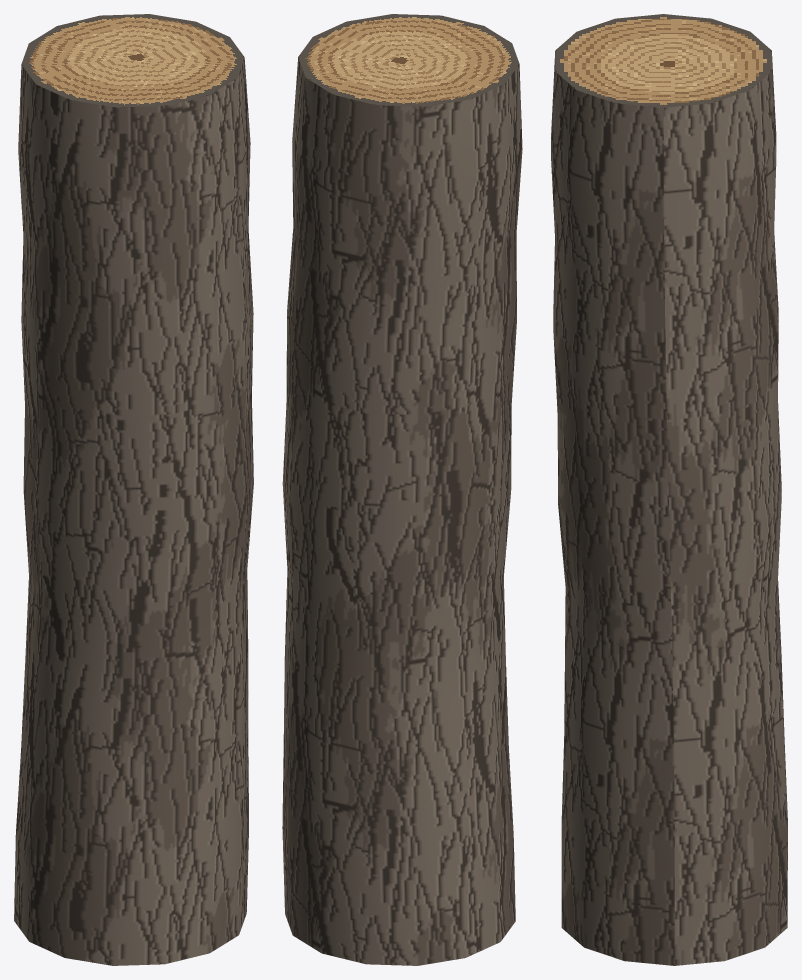
File: environment_elm_loghalf_v72.fbx
3 views of the same model, side by side, from view 1: azimuth 30°, elevation 25°; view 2: azimuth 150°, elevation 25°; view 3: azimuth 270°, elevation 25° (orthographic).
Visible parts, largest first — view 1: environment_elm_loghalf_v72; view 2: environment_elm_loghalf_v72; view 3: environment_elm_loghalf_v72.
Boxes of the visible parts, x1=… form: environment_elm_loghalf_v72: x1=14, y1=14, x2=253, y2=965; environment_elm_loghalf_v72: x1=282, y1=14, x2=522, y2=965; environment_elm_loghalf_v72: x1=551, y1=14, x2=787, y2=965.
Bounding box in the file's own units: 127 × 500 × 126.
2 materials, 2 textured.
